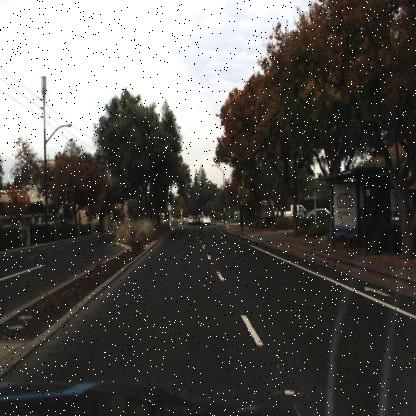car: (274, 199, 308, 226), (305, 204, 332, 224), (202, 214, 210, 225), (193, 218, 201, 225)
